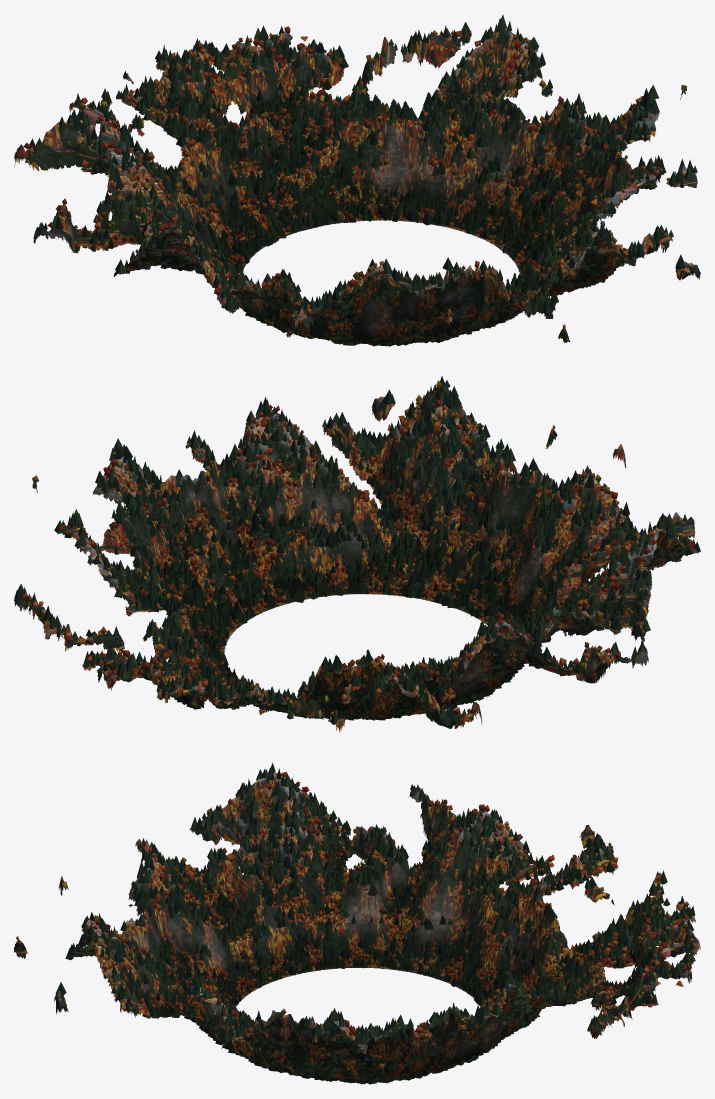
Rendered from backdrop_mountain_ring_v5_autumn_mid.glb.
3 views of the same model, one above another, from view 1: azimuth 30°, elevation 25°; view 2: azimuth 150°, elevation 25°; view 3: azimuth 270°, elevation 25° (orthographic). The views are drawn at different scales.
Visible parts, largest first — view 1: trees_v5_mid_0, backdrop_v5_mid; view 2: trees_v5_mid_0, backdrop_v5_mid; view 3: trees_v5_mid_0, backdrop_v5_mid.
Part boxes in pixels (bbox=[...]): trees_v5_mid_0: bbox=[23, 15, 697, 346]; backdrop_v5_mid: bbox=[14, 27, 700, 344]; trees_v5_mid_0: bbox=[14, 376, 700, 724]; backdrop_v5_mid: bbox=[14, 388, 700, 732]; trees_v5_mid_0: bbox=[16, 762, 696, 1084]; backdrop_v5_mid: bbox=[14, 772, 700, 1080].
Size of the model in its own units: 1466 by 360 by 1502.
9 materials, 8 textured.
